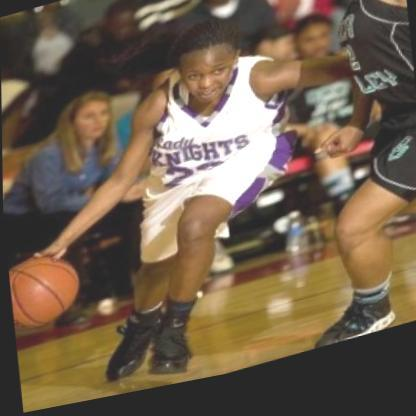basketball: (7, 241, 86, 339)
